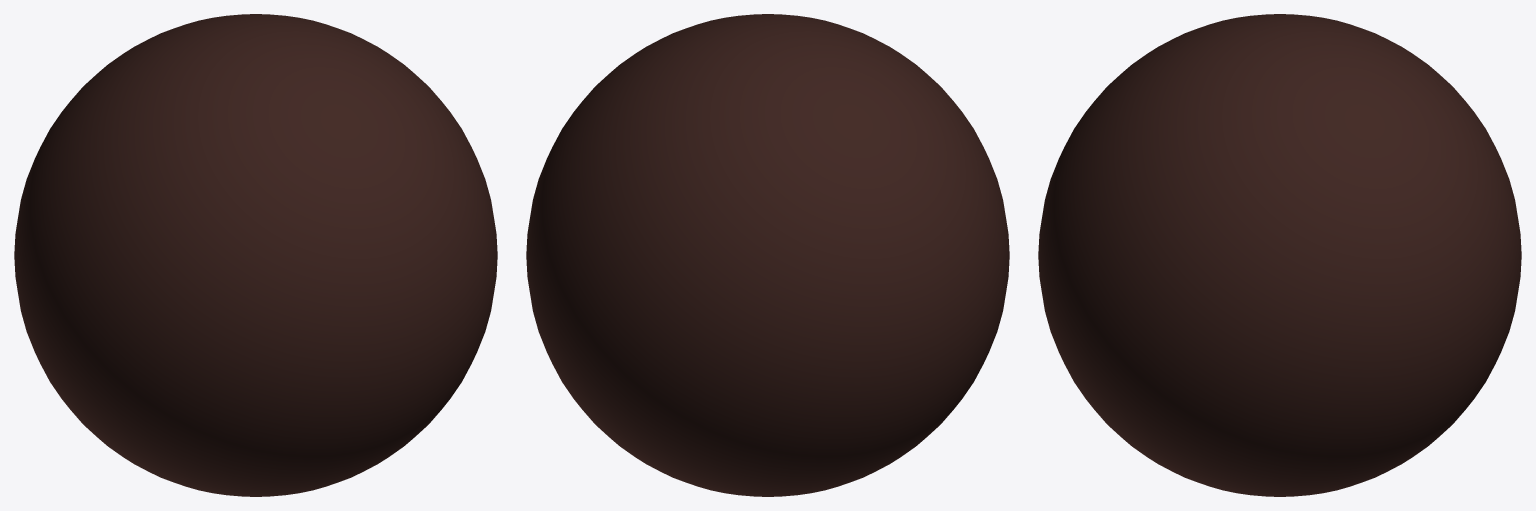
Rendered from planet_6.obj.
3 views of the same model, side by side, from view 1: azimuth 30°, elevation 25°; view 2: azimuth 150°, elevation 25°; view 3: azimuth 270°, elevation 25° (orthographic).
Visible parts, largest first — view 1: planet_6; view 2: planet_6; view 3: planet_6.
Part boxes in pixels (x1=…): planet_6: x1=14, y1=14, x2=497, y2=496; planet_6: x1=526, y1=14, x2=1009, y2=496; planet_6: x1=1038, y1=14, x2=1521, y2=496.
Bounding box in the file's own units: 2 × 2 × 2.
